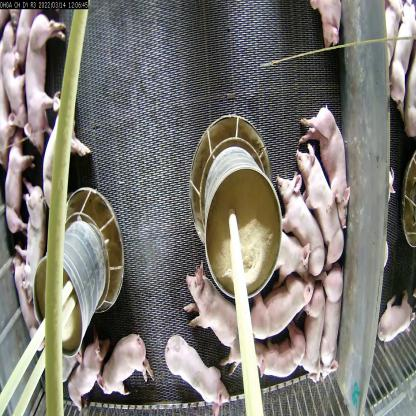Pig: (304, 93, 358, 233), (159, 329, 242, 415), (187, 258, 250, 370), (38, 83, 89, 194), (294, 148, 344, 260), (274, 184, 335, 272), (22, 13, 61, 140), (2, 122, 36, 249), (318, 268, 349, 387), (249, 278, 306, 339), (94, 335, 149, 398), (296, 294, 336, 379), (250, 316, 301, 371), (24, 177, 45, 280), (67, 342, 104, 394), (262, 235, 303, 265)
